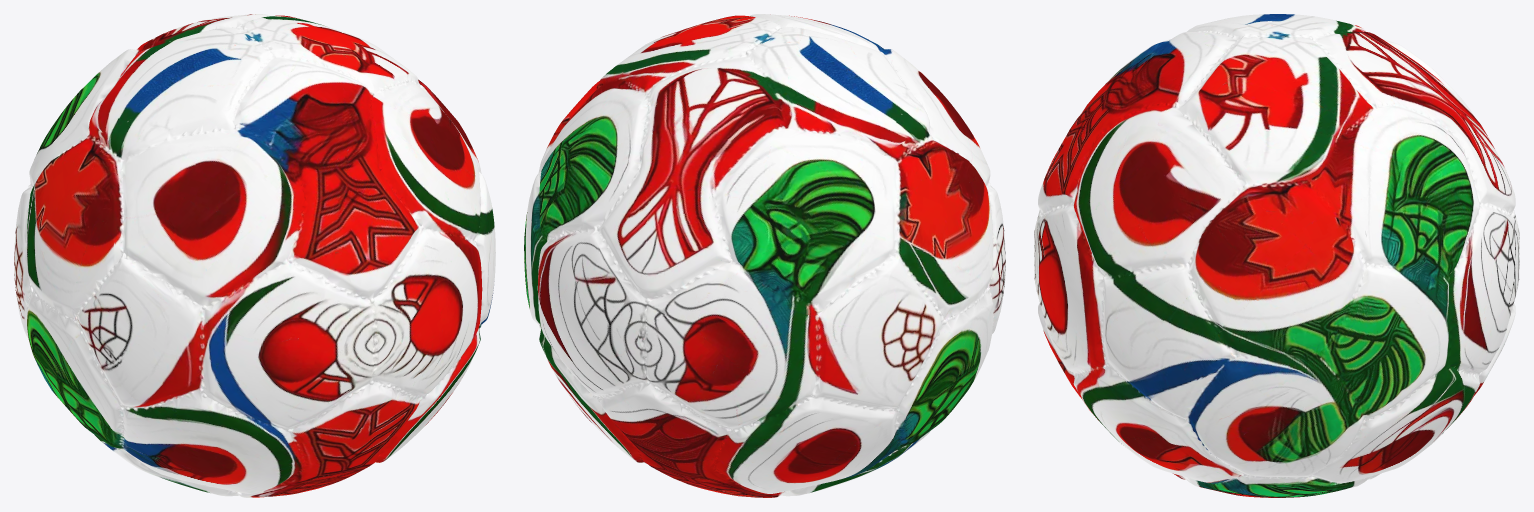
The model's file is ball.glb.
3 views of the same model, side by side, from view 1: azimuth 30°, elevation 25°; view 2: azimuth 150°, elevation 25°; view 3: azimuth 270°, elevation 25° (orthographic).
Bounding box in the file's own units: 1.9 × 1.9 × 1.9.
1 material, 1 textured.
